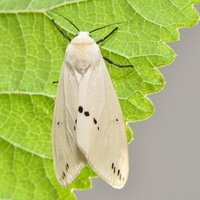insect: (52, 15, 128, 188)
